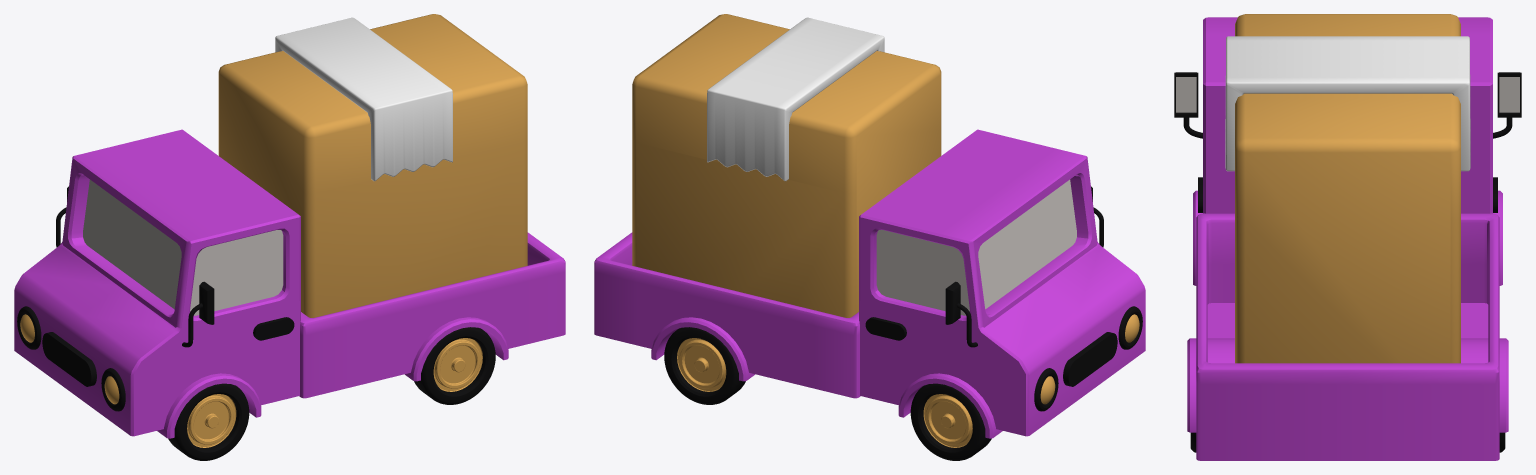
Rendered from car.glb.
The picture shows the model from 3 angles, left to right: view 1: azimuth 30°, elevation 25°; view 2: azimuth 150°, elevation 25°; view 3: azimuth 270°, elevation 25°; orthographic projection. The views are drawn at different scales.
Parts seen in each view (by area): view 1: Box, Body, Cube, F L.001, F L; view 2: Box, Body, Cube, F L.001, F L; view 3: Box, Cube, Body.
Boxes of the visible parts, x1,y1,x2,y2 form: Box: [218, 14, 527, 317]; Body: [14, 129, 508, 438]; Cube: [299, 232, 565, 398]; F L.001: [414, 327, 495, 404]; F L: [168, 383, 249, 460]; Box: [632, 14, 941, 317]; Body: [651, 129, 1145, 438]; Cube: [594, 232, 860, 398]; F L.001: [664, 327, 745, 404]; F L: [910, 383, 991, 460]; Box: [1225, 14, 1470, 363]; Cube: [1196, 213, 1499, 460]; Body: [1174, 17, 1521, 432].
Size of the model in its own units: 5.11 by 3.37 by 2.86.
Materials: 4 (4 with a texture image).
